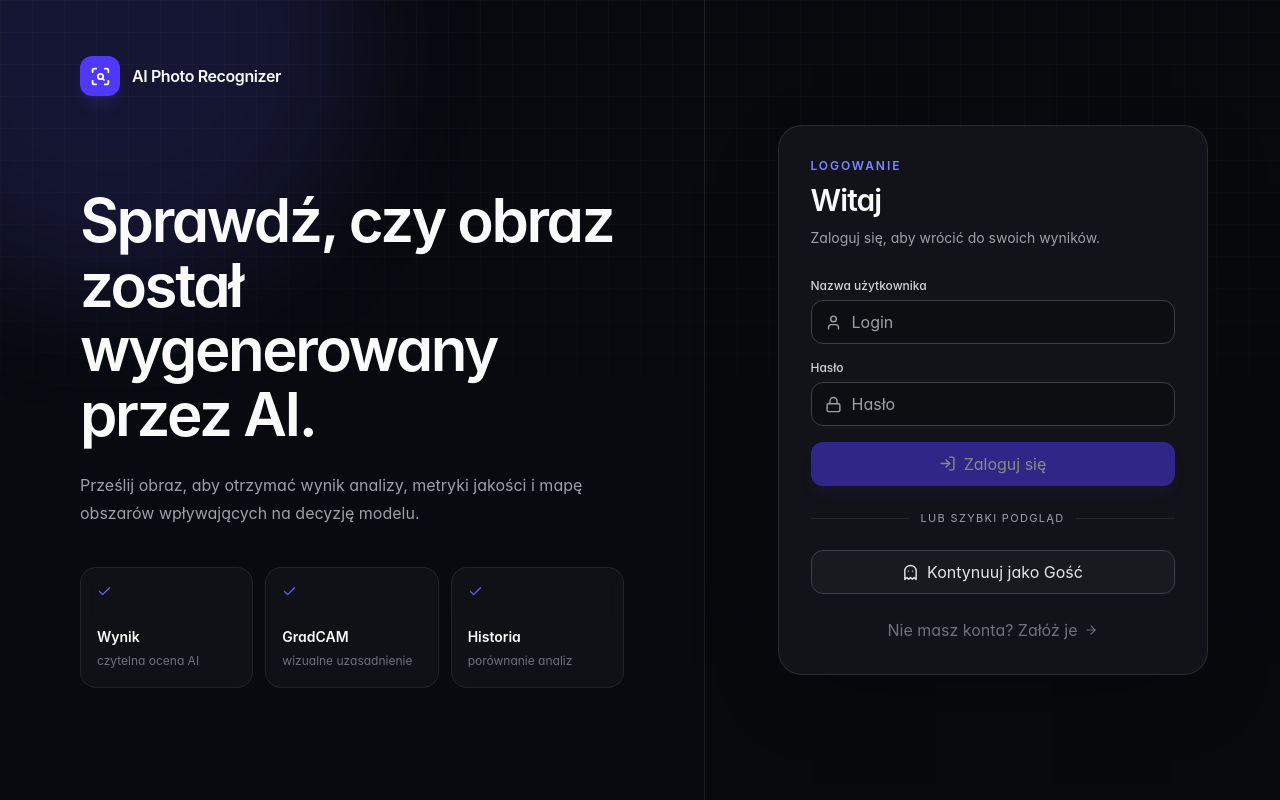
Test: AuthForm › login flow › should show generic error on network failure
The width and height of the screenshot is (1280, 800).
Type "user" into the field with placeholder "Login" at (992, 322), box [810,300,1174,344]
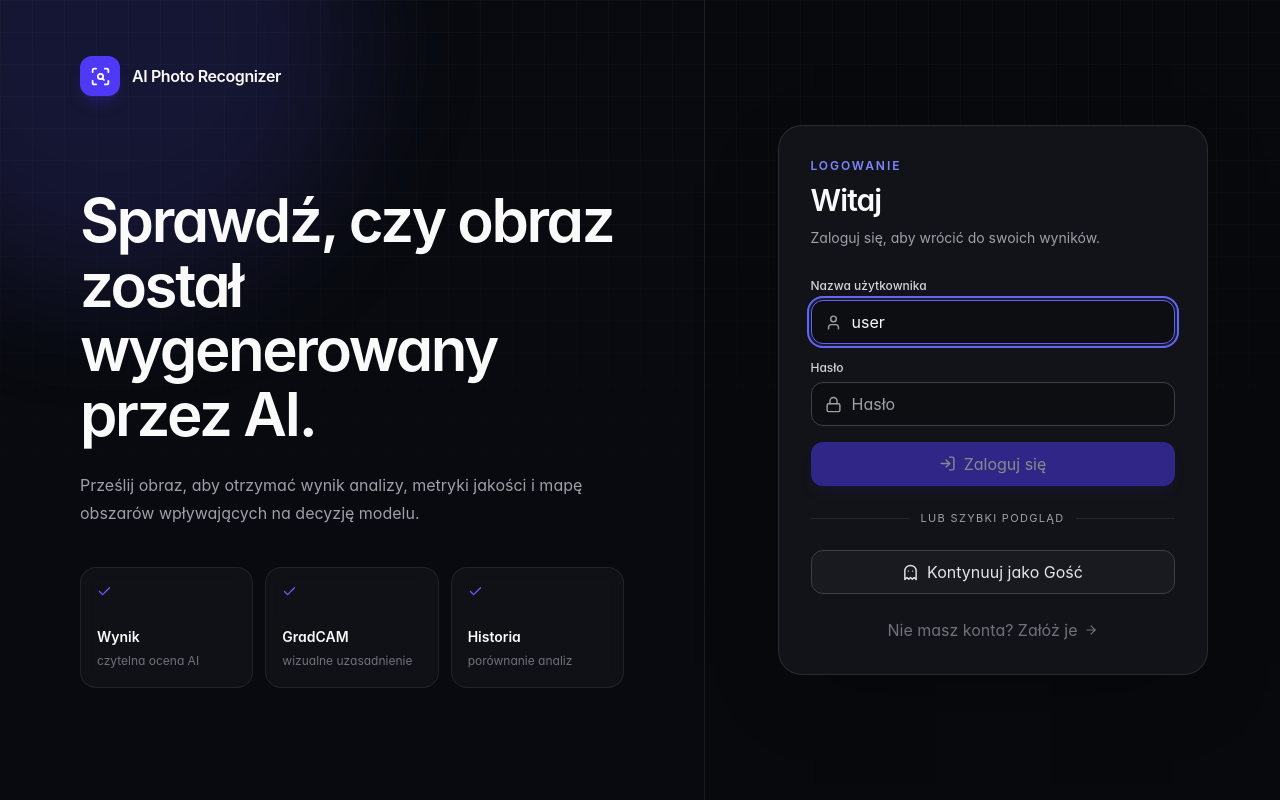
Type "pass" into the password field with placeholder "Hasło" at (992, 404), box [810,382,1174,426]
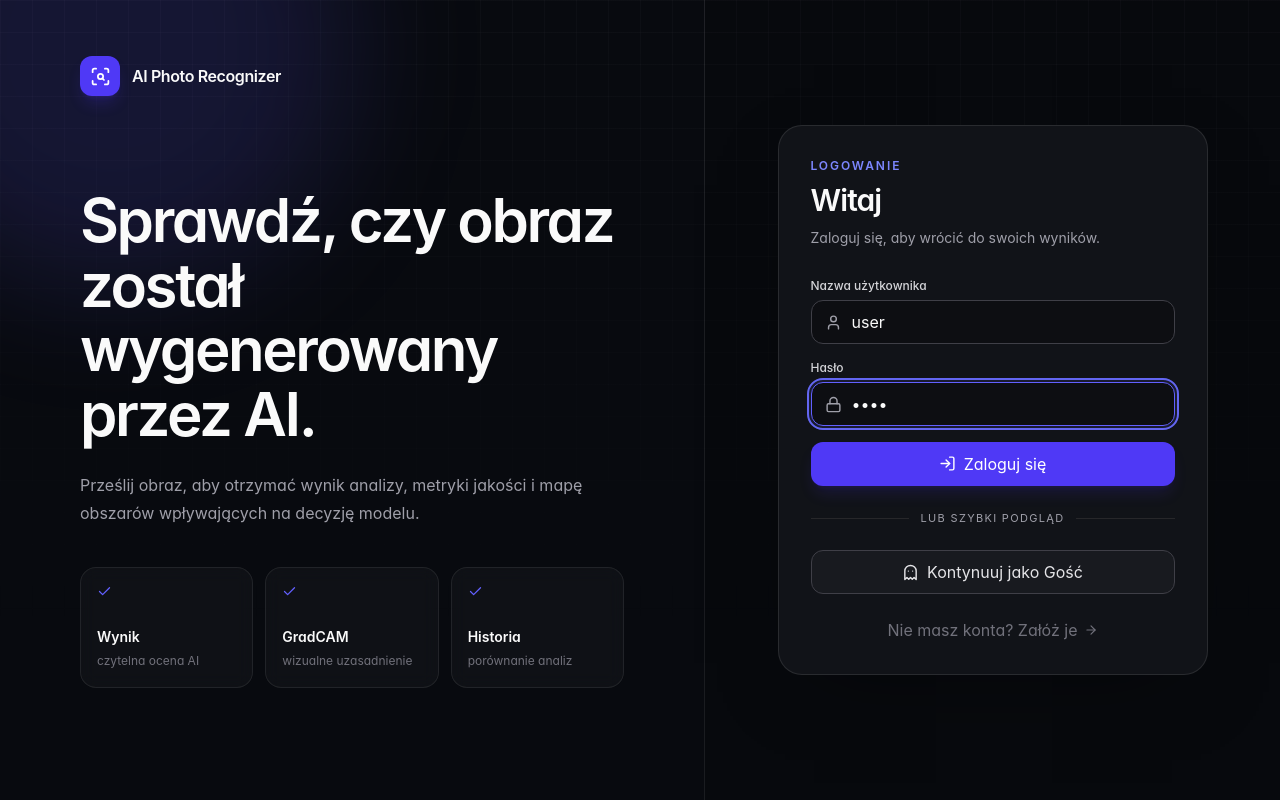
Click the button "Zaloguj się" at (992, 464), box [810,442,1174,486]
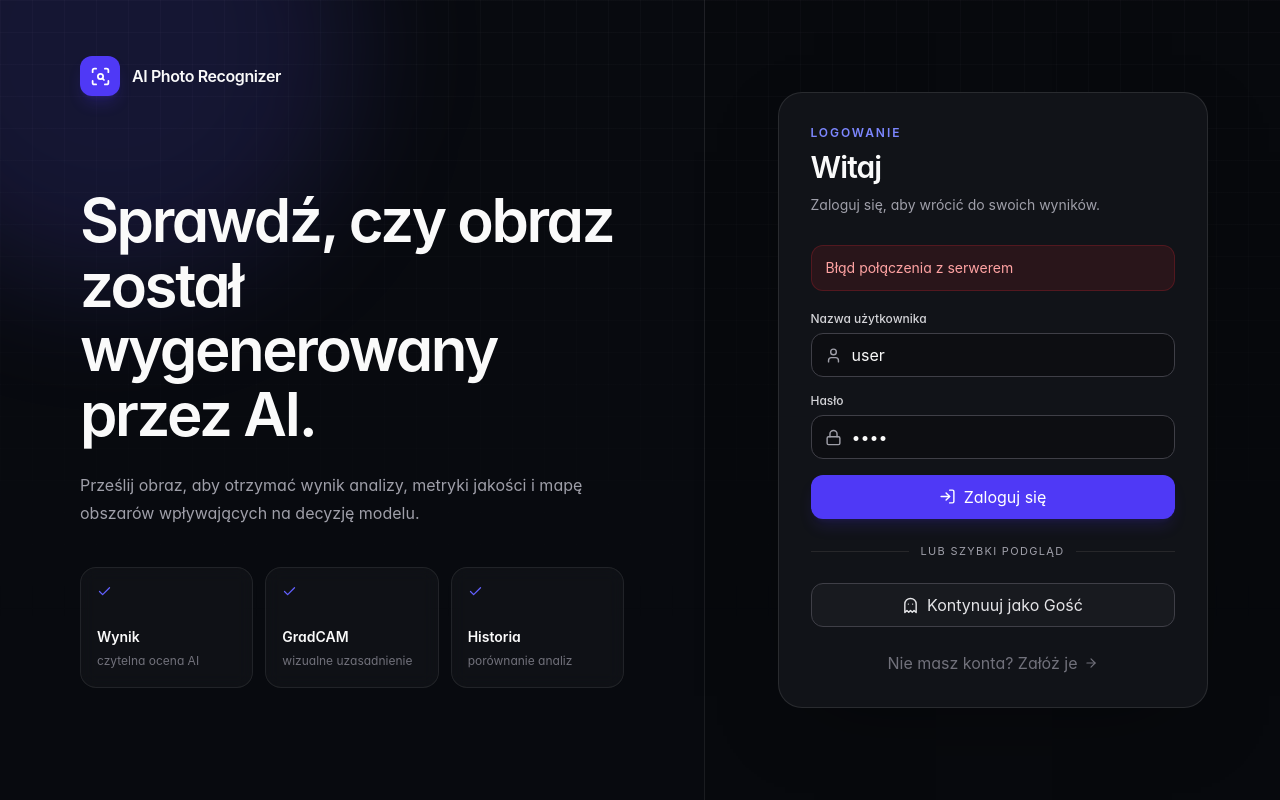
Check: the text "Błąd połączenia z serwerem" is shown, box [810,245,1174,291]
